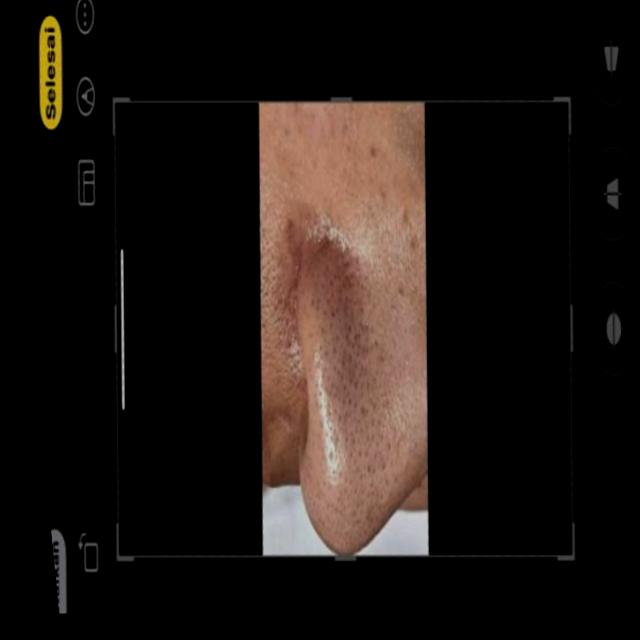blackhead: (299, 249, 372, 541)
